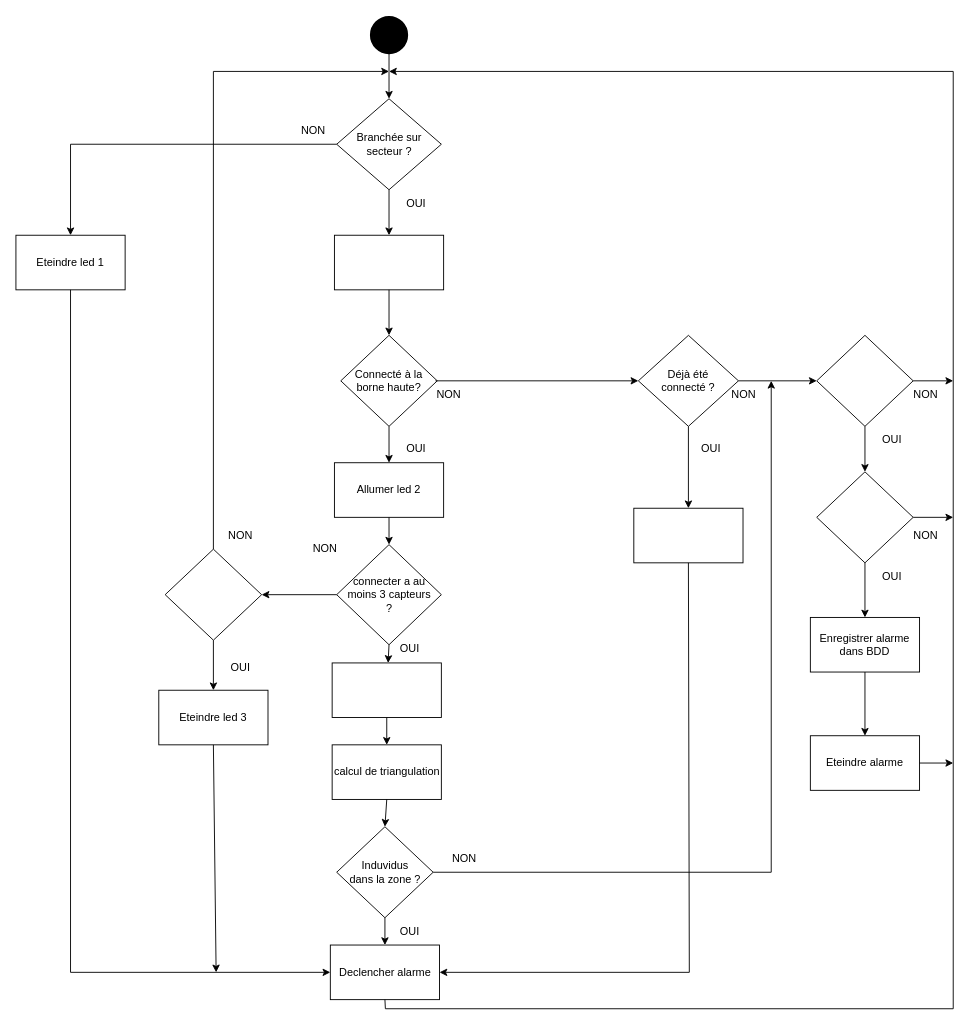
This 976x1032 diagram has some shape labels left out. Each missing label, with the centre of its shape:
"Acquité par chef ?" goes at point 864,517.
"alarme déjà enclenchée ?" goes at point 864,380.
"Allumer led 1" goes at point 389,262.
"Allumer led 3" goes at point 386,690.
"Déjà été connecté a >= 3 capteurs ?" goes at point 213,594.
"Eteindre led 2" goes at point 688,535.
